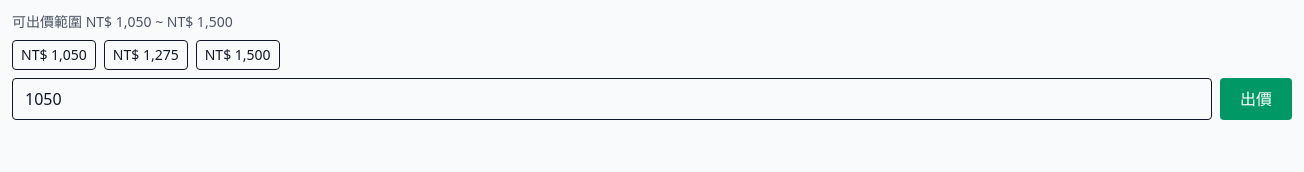
Scenario: BidPanel › submits a valid bid and reports extension
The width and height of the screenshot is (1304, 172).
Replace the text in the field named "出價金額" with "1100". click: (612, 99)
box: [12,78,1212,120]
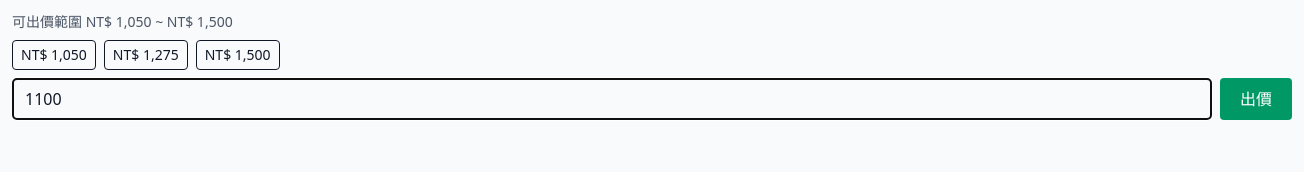
Click the button "出價". click: (1256, 99)
box: [1220,78,1292,120]
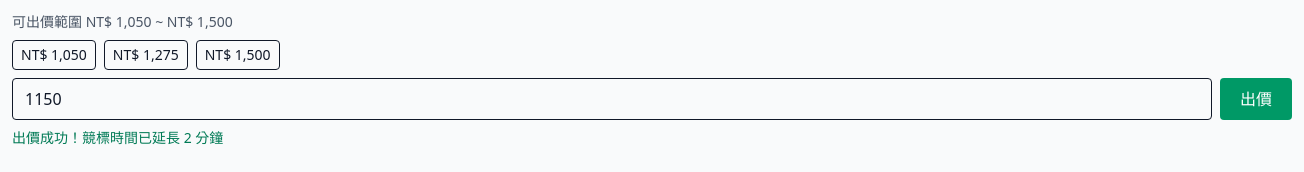
Result: the message shows "延長 2 分鐘" at [12,128,223,147]
